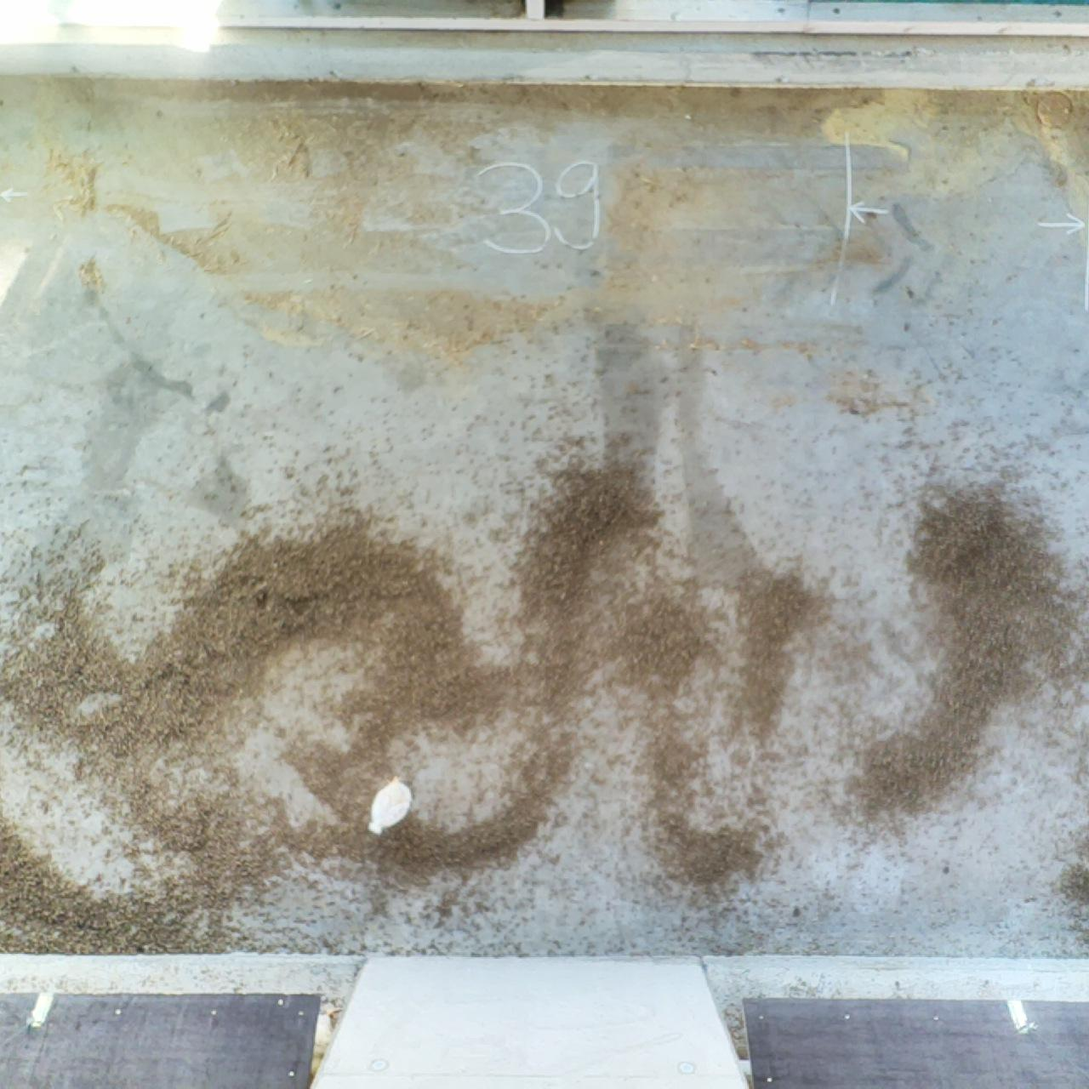chicken: (365, 771, 417, 840)
